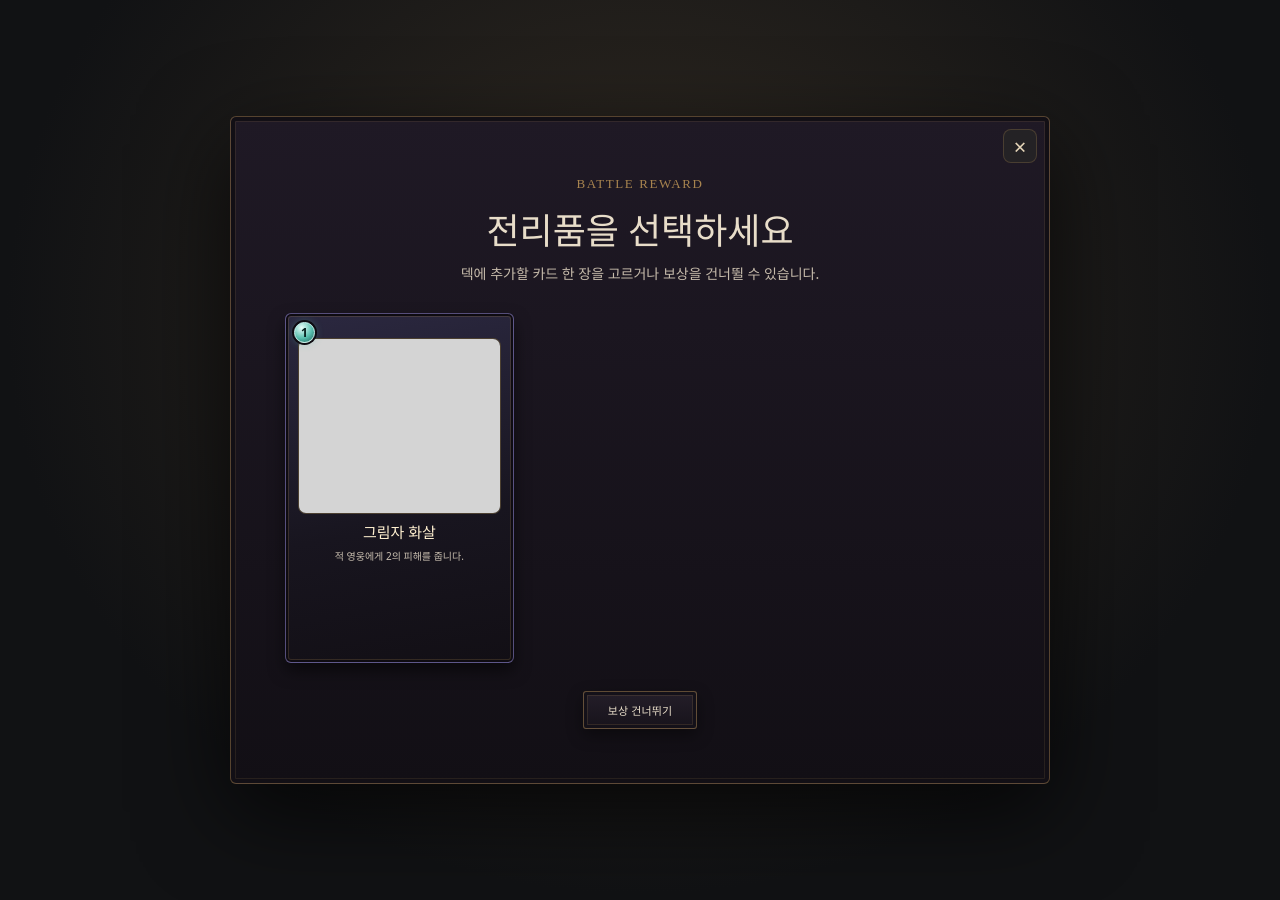
Test: RewardScreen › inspects a reward card on a touch tap without choosing it
Click the button named "주문": coordinates (399, 488) [285,313,514,663]
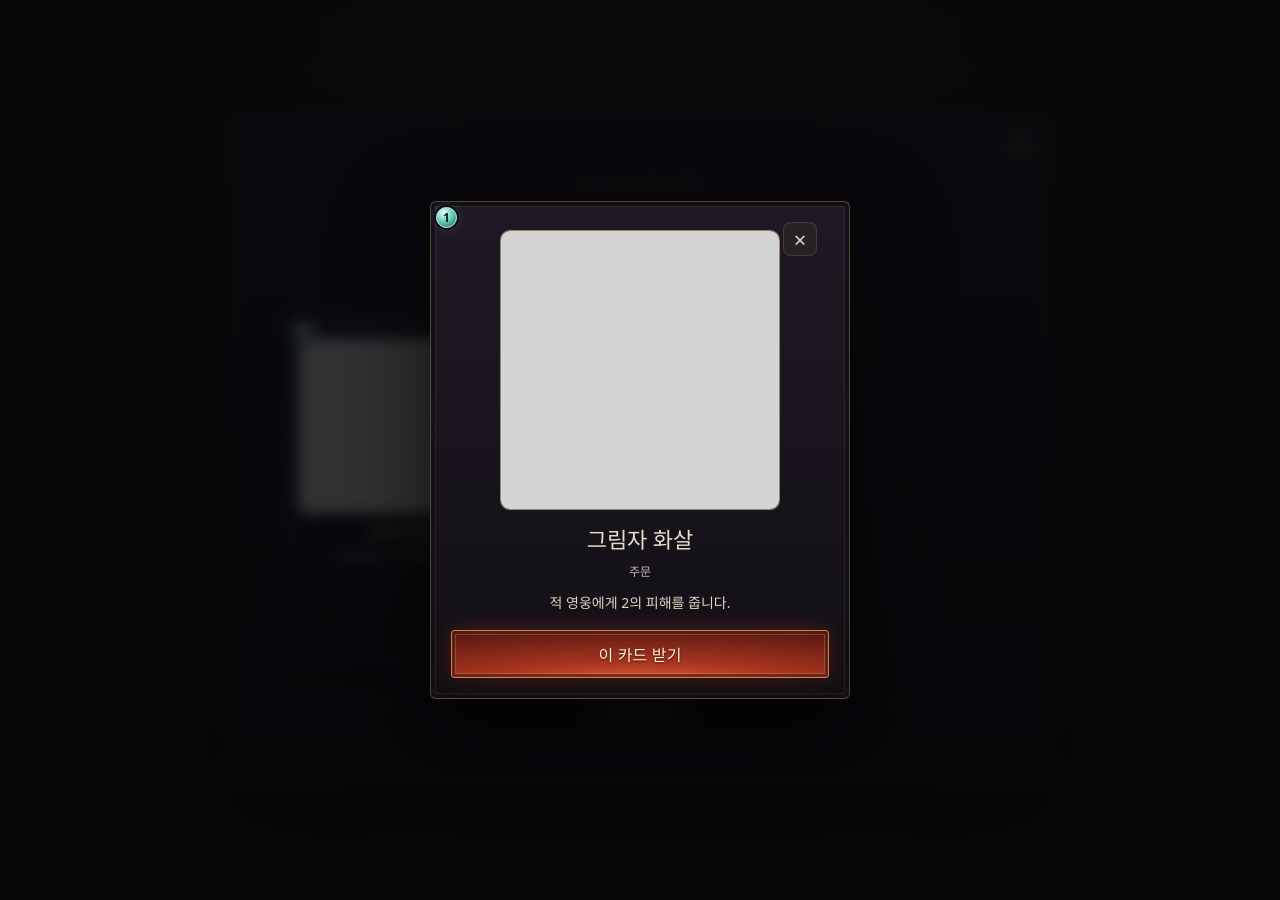
Expected: the dialog shows "주문", [629,563,651,580]
